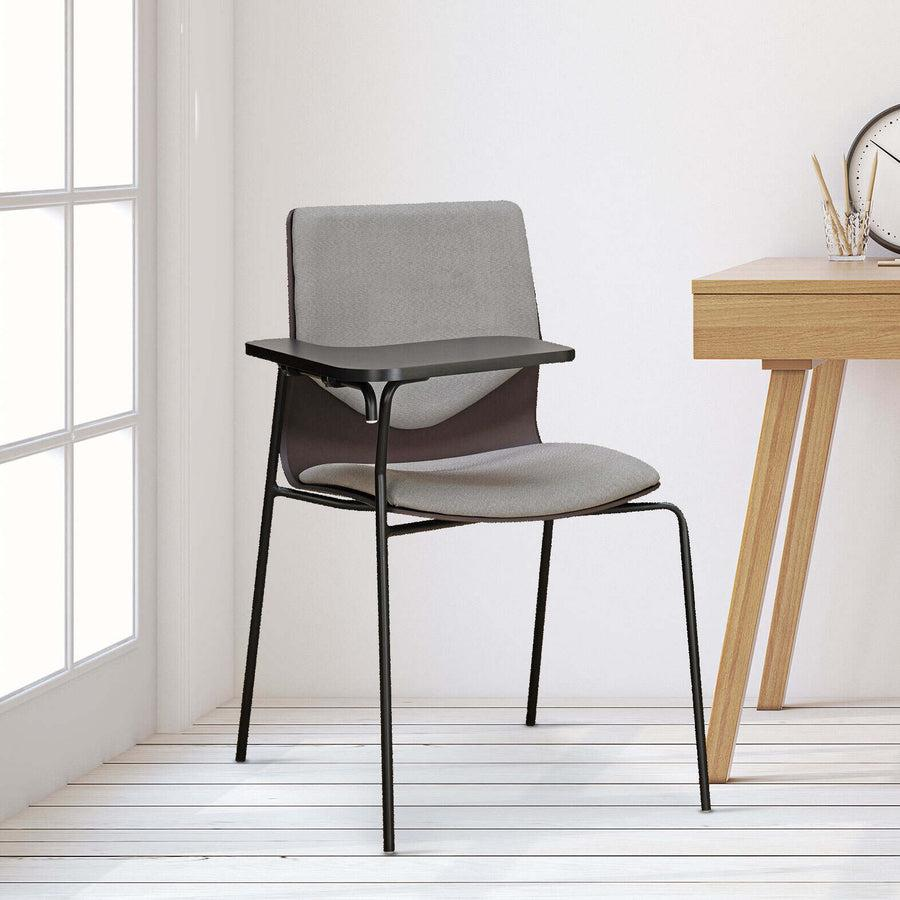chair: (226, 173, 717, 889)
